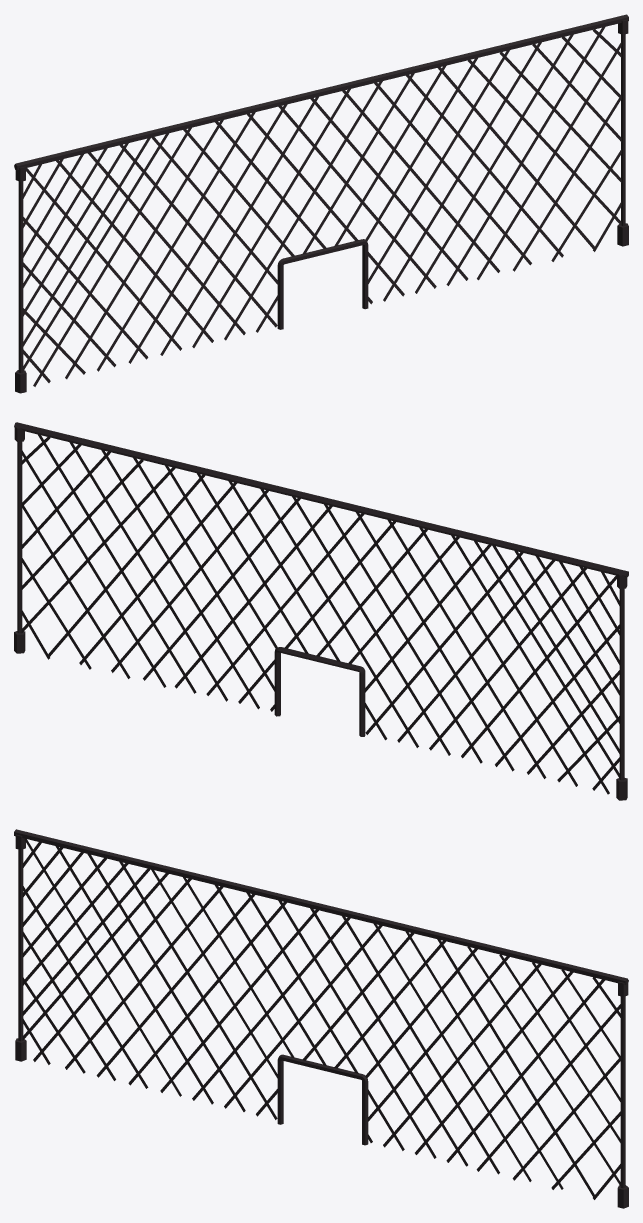
File: Fence(1).fbx
The picture shows the model from 3 angles, top to bottom: view 1: azimuth 30°, elevation 25°; view 2: azimuth 150°, elevation 25°; view 3: azimuth 330°, elevation 25°; orthographic projection.
Parts seen in each view (by area): view 1: Fence; view 2: Fence; view 3: Fence.
Part boxes in pixels (bbox=[...]): Fence: bbox=[14, 14, 628, 393]; Fence: bbox=[14, 422, 628, 800]; Fence: bbox=[14, 829, 628, 1208].
Size of the model in its own units: 2003 by 717 by 30.9.
1 material, 1 textured.
